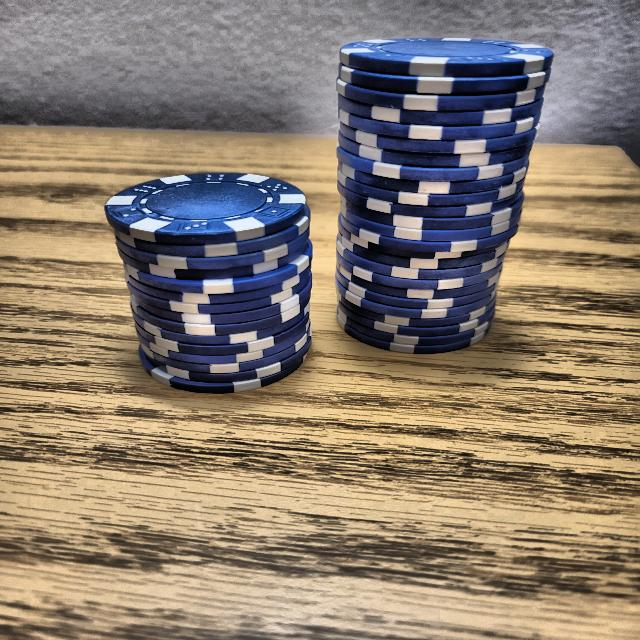Chip: (318, 27, 562, 368), (90, 149, 323, 408)
